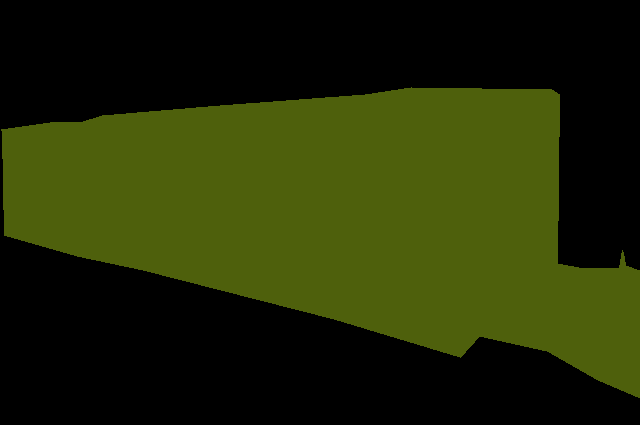Train: (1, 87, 640, 399)
